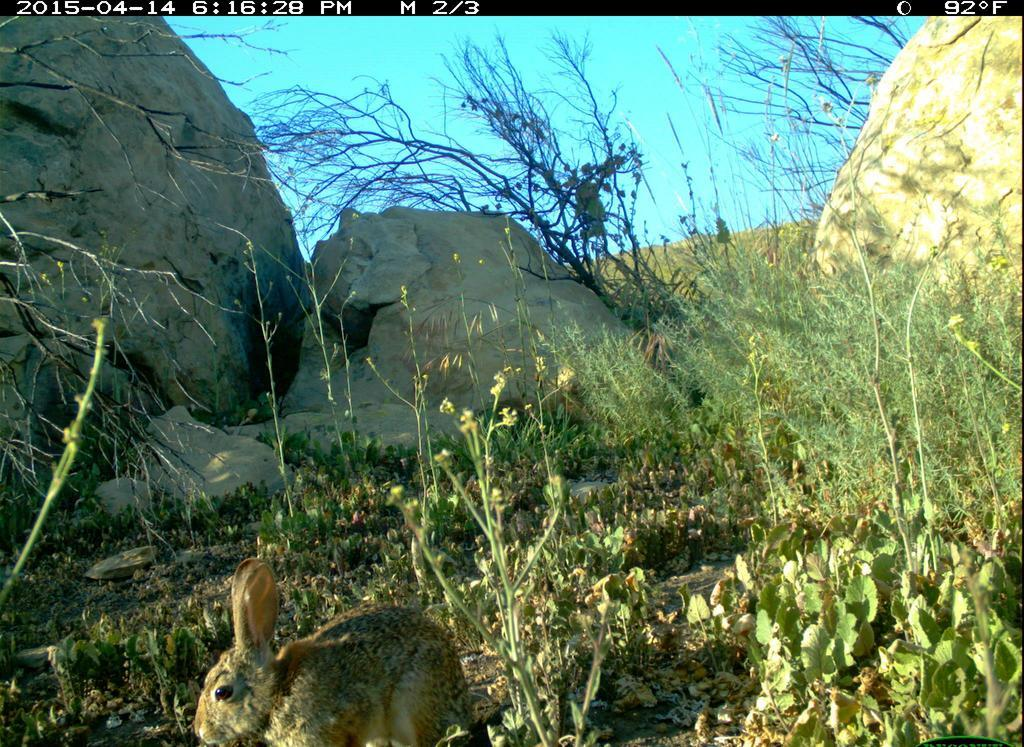rabbit: (186, 542, 519, 743)
